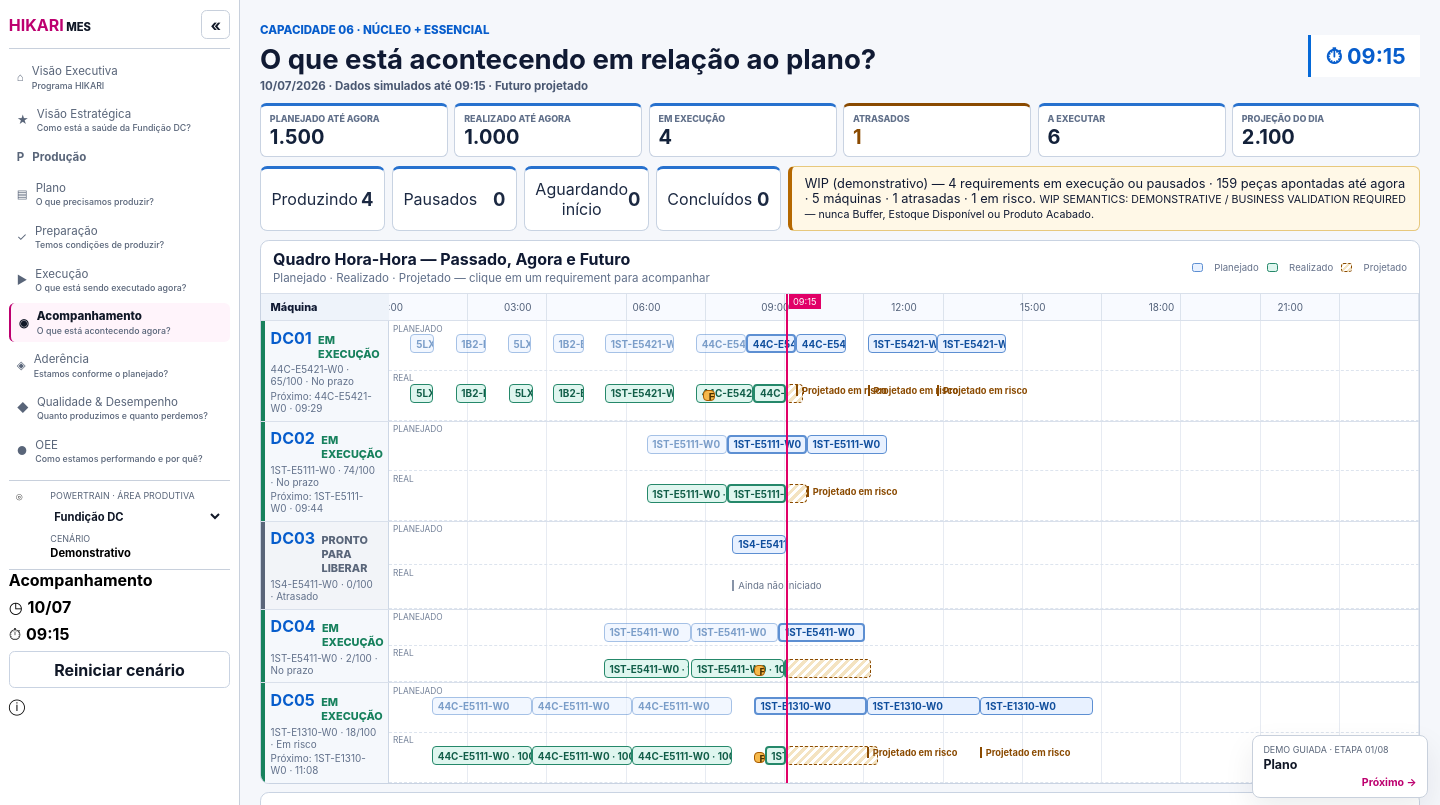
Test case: opens the NOT_STARTED DC03 requirement context — scheduled start already passed, no appointment yet
This screenshot has width=1440, height=805.
Click the button "DC03 Pronto para liberar 1S4-E5411-W0 · 0/100 · Atrasado" at {"x": 325, "y": 565}, box [261, 522, 389, 608]
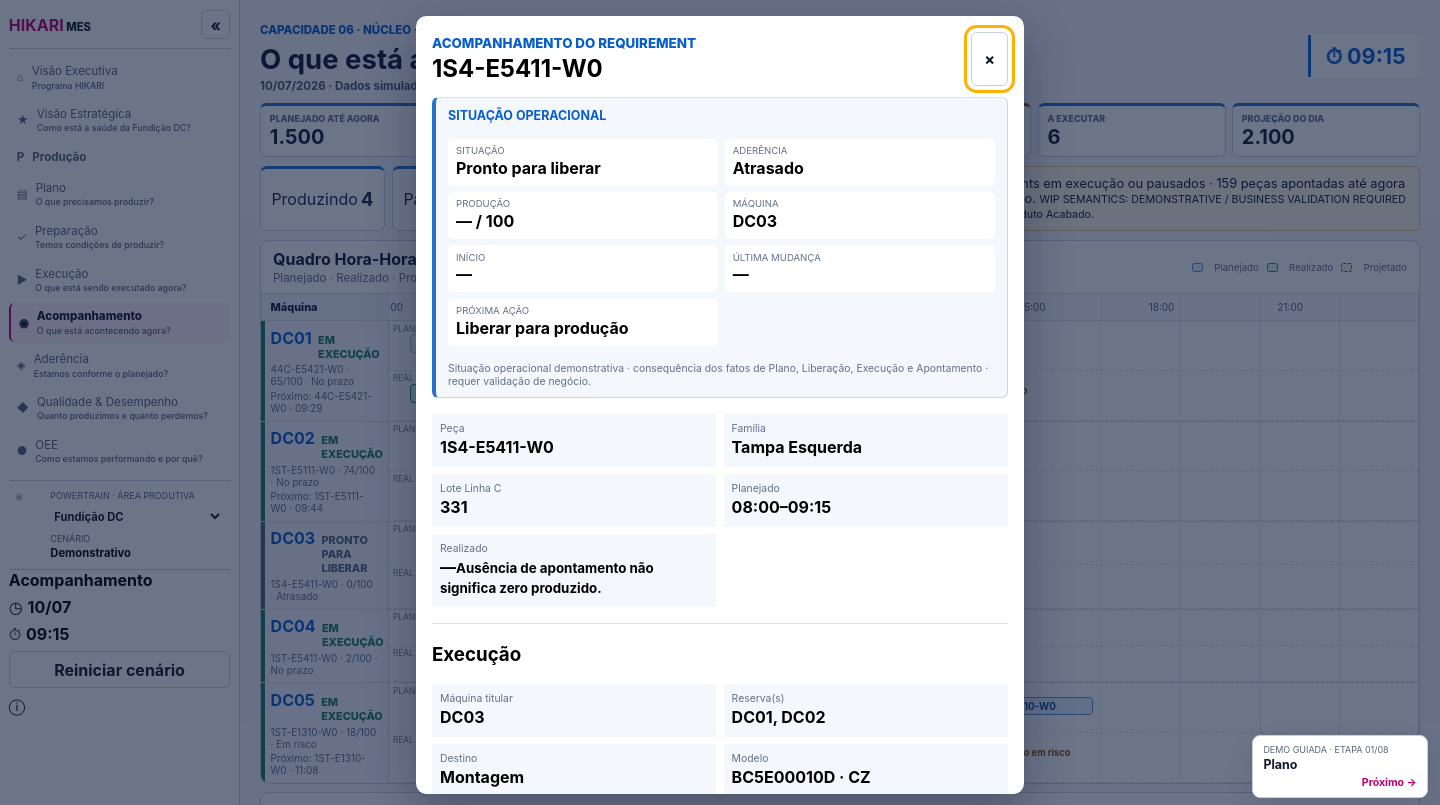
Expected: the dialog "1S4-E5411-W0" shows "Atrasado", [733, 158, 804, 178]
